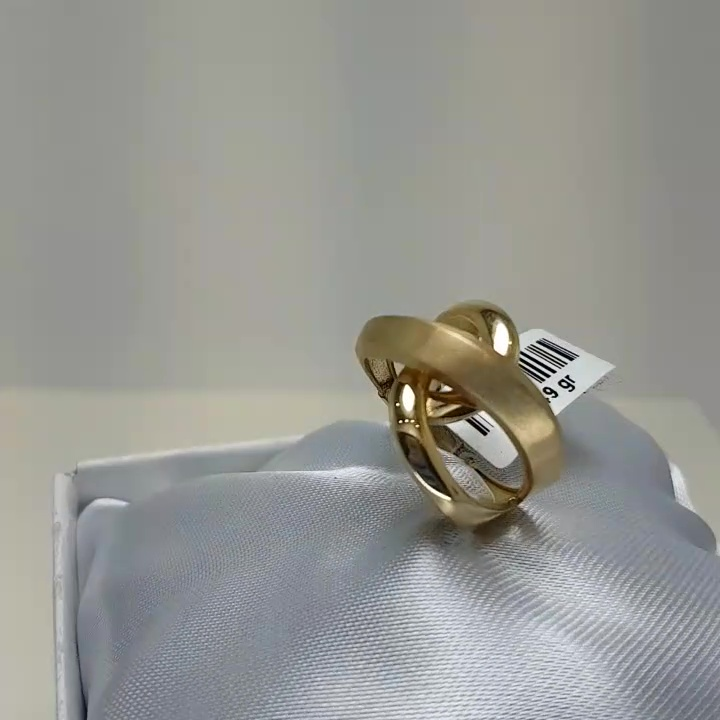Ring 3: (334, 284, 577, 565)
